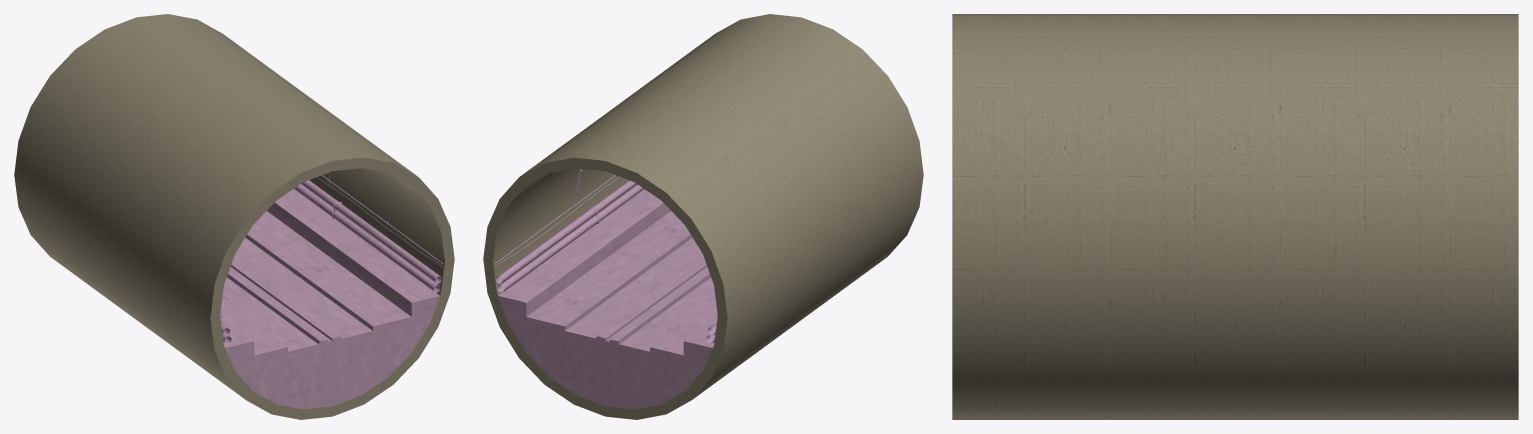
The model's file is 盾构隧道.fbx.
The picture shows the model from 3 angles, left to right: view 1: azimuth 30°, elevation 25°; view 2: azimuth 150°, elevation 25°; view 3: azimuth 270°, elevation 25°; orthographic projection. The views are drawn at different scales.
Visible parts, largest first — view 1: dungousuidao; view 2: dungousuidao; view 3: dungousuidao.
Boxes of the visible parts, x1,y1,x2,y2 form: dungousuidao: (14,14,454,419); dungousuidao: (483,14,923,419); dungousuidao: (952,14,1518,419).
Size of the model in its own units: 35.96 by 35.96 by 50.
